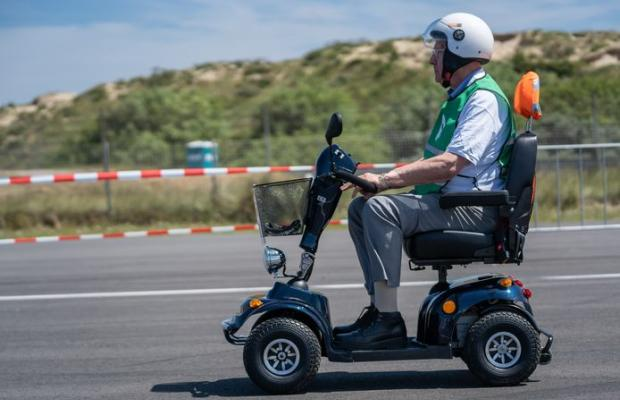wheelchair: (221, 13, 554, 394)
